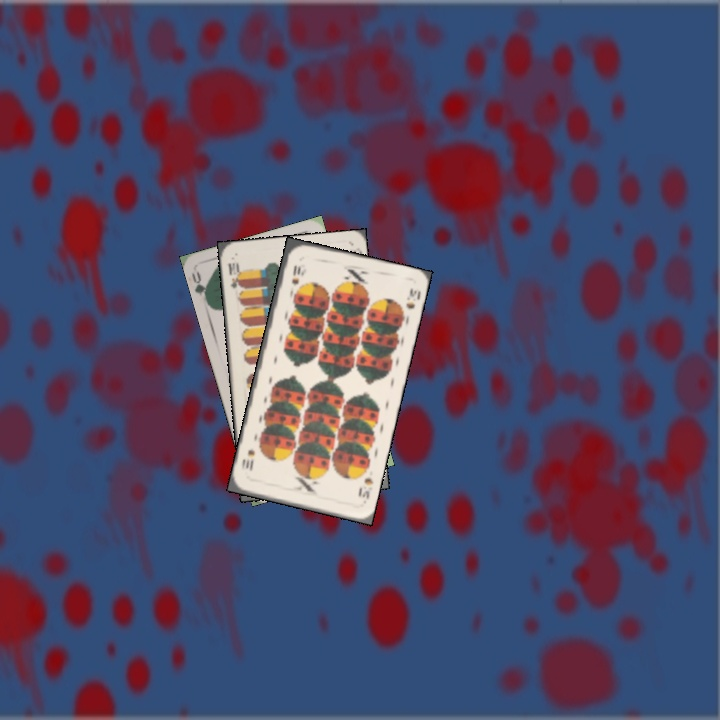E10: (224, 258, 244, 291)
GO: (188, 267, 211, 306)
S10: (354, 474, 376, 502), (288, 261, 303, 289)
